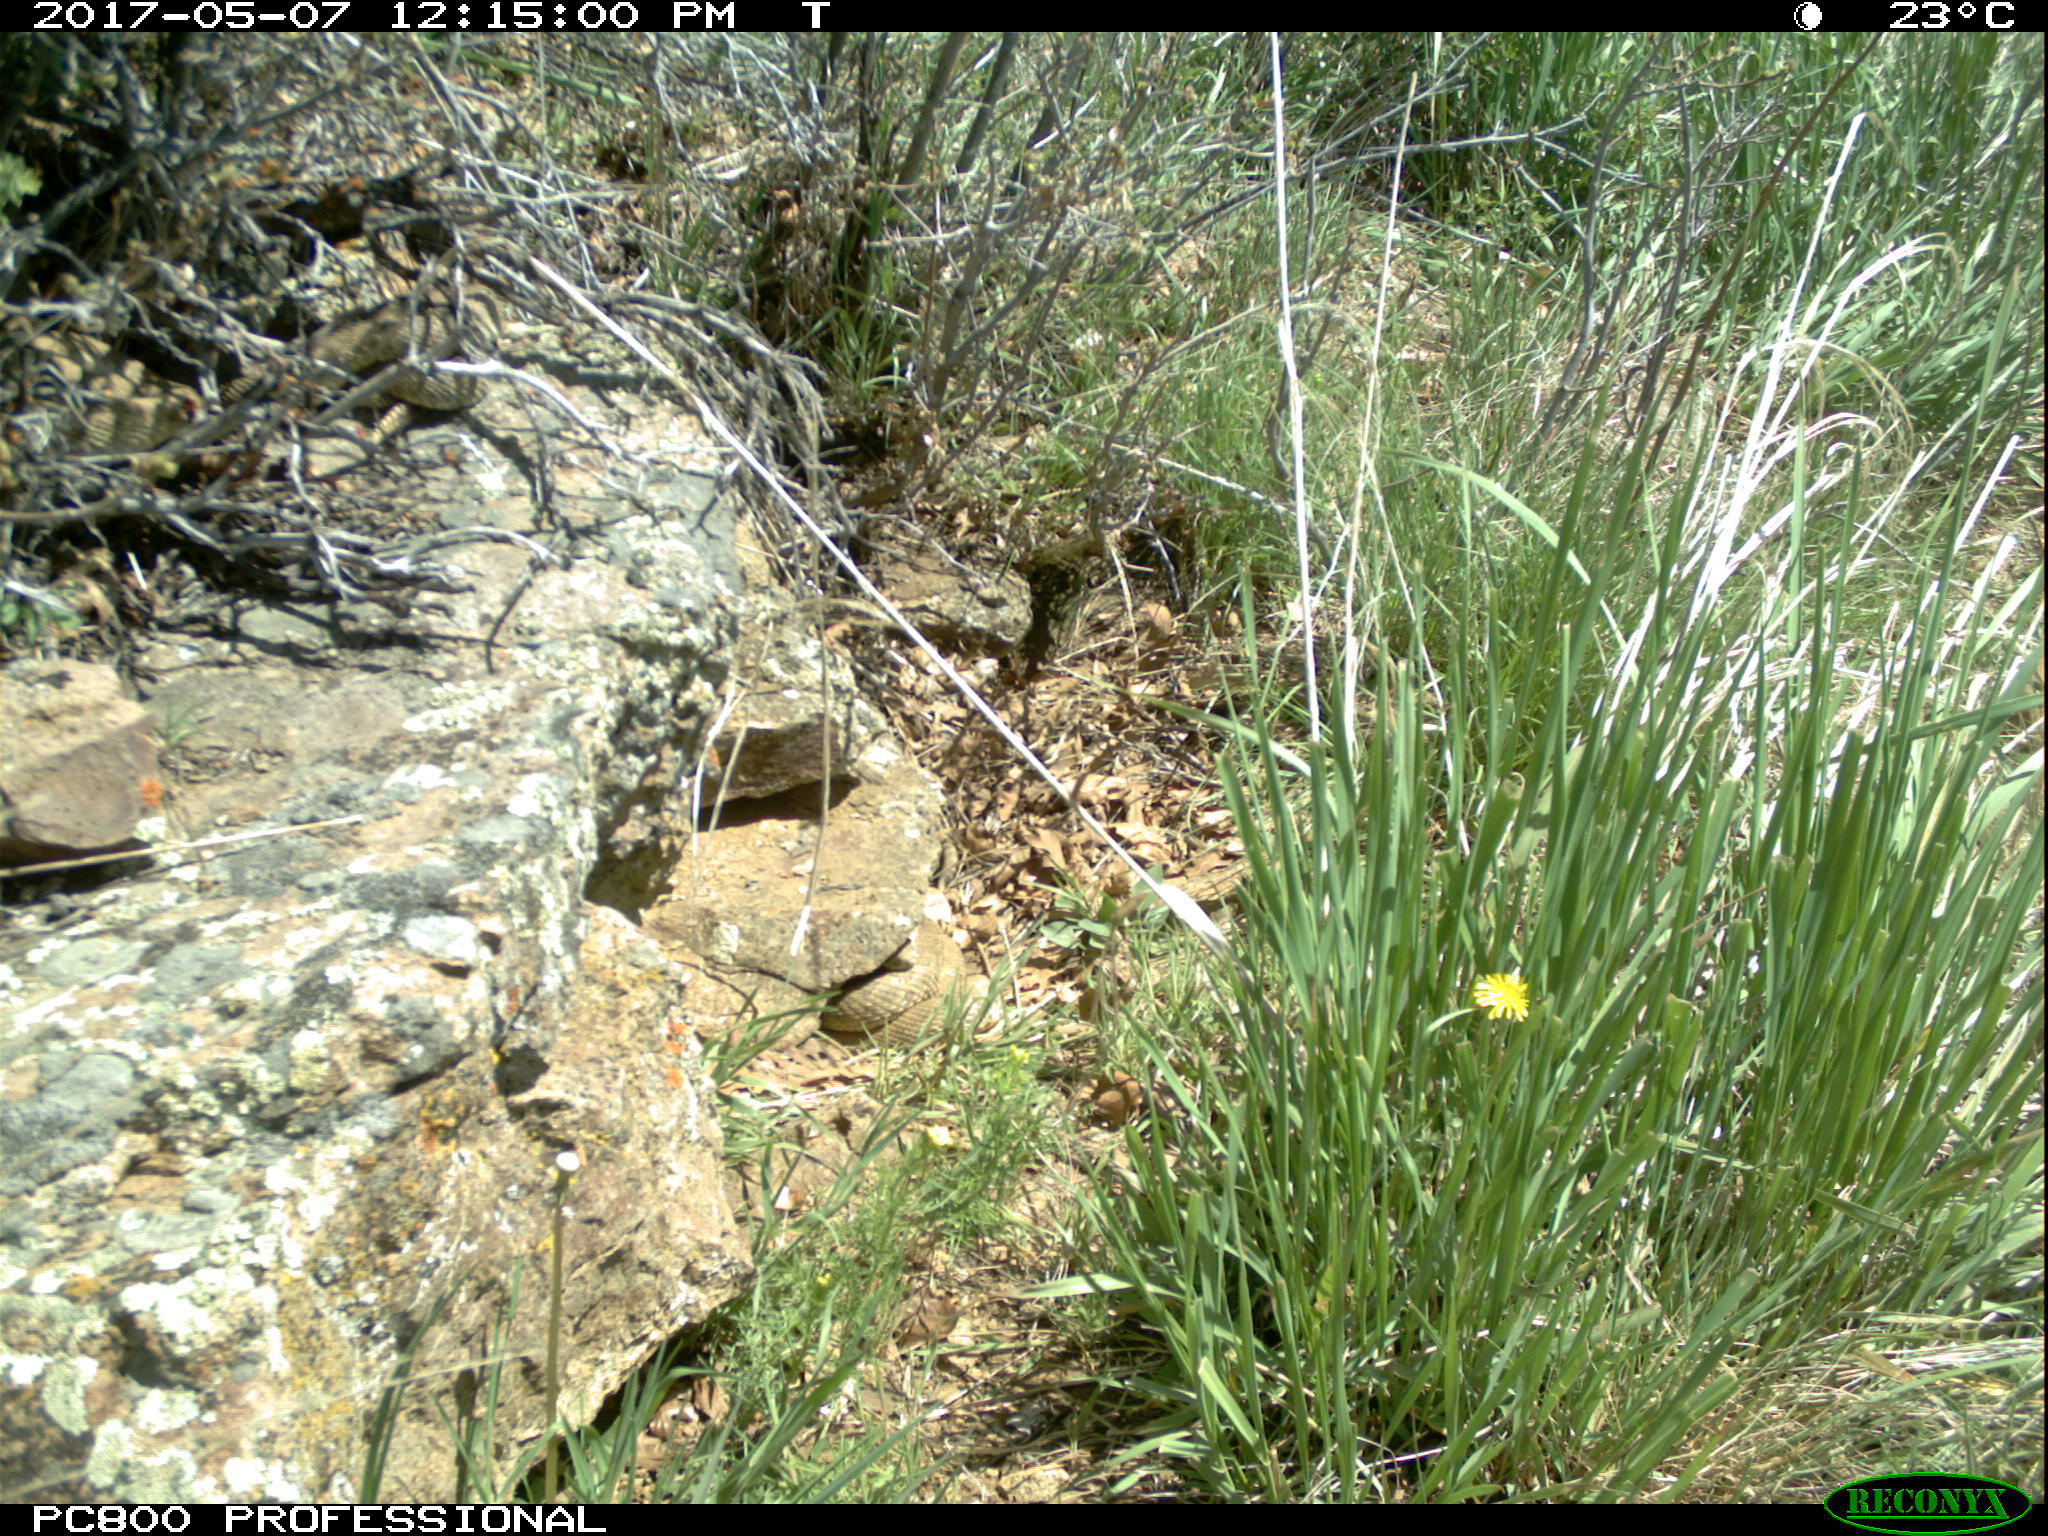snake: (226, 265, 503, 411), (821, 918, 993, 1046), (35, 368, 235, 458)
